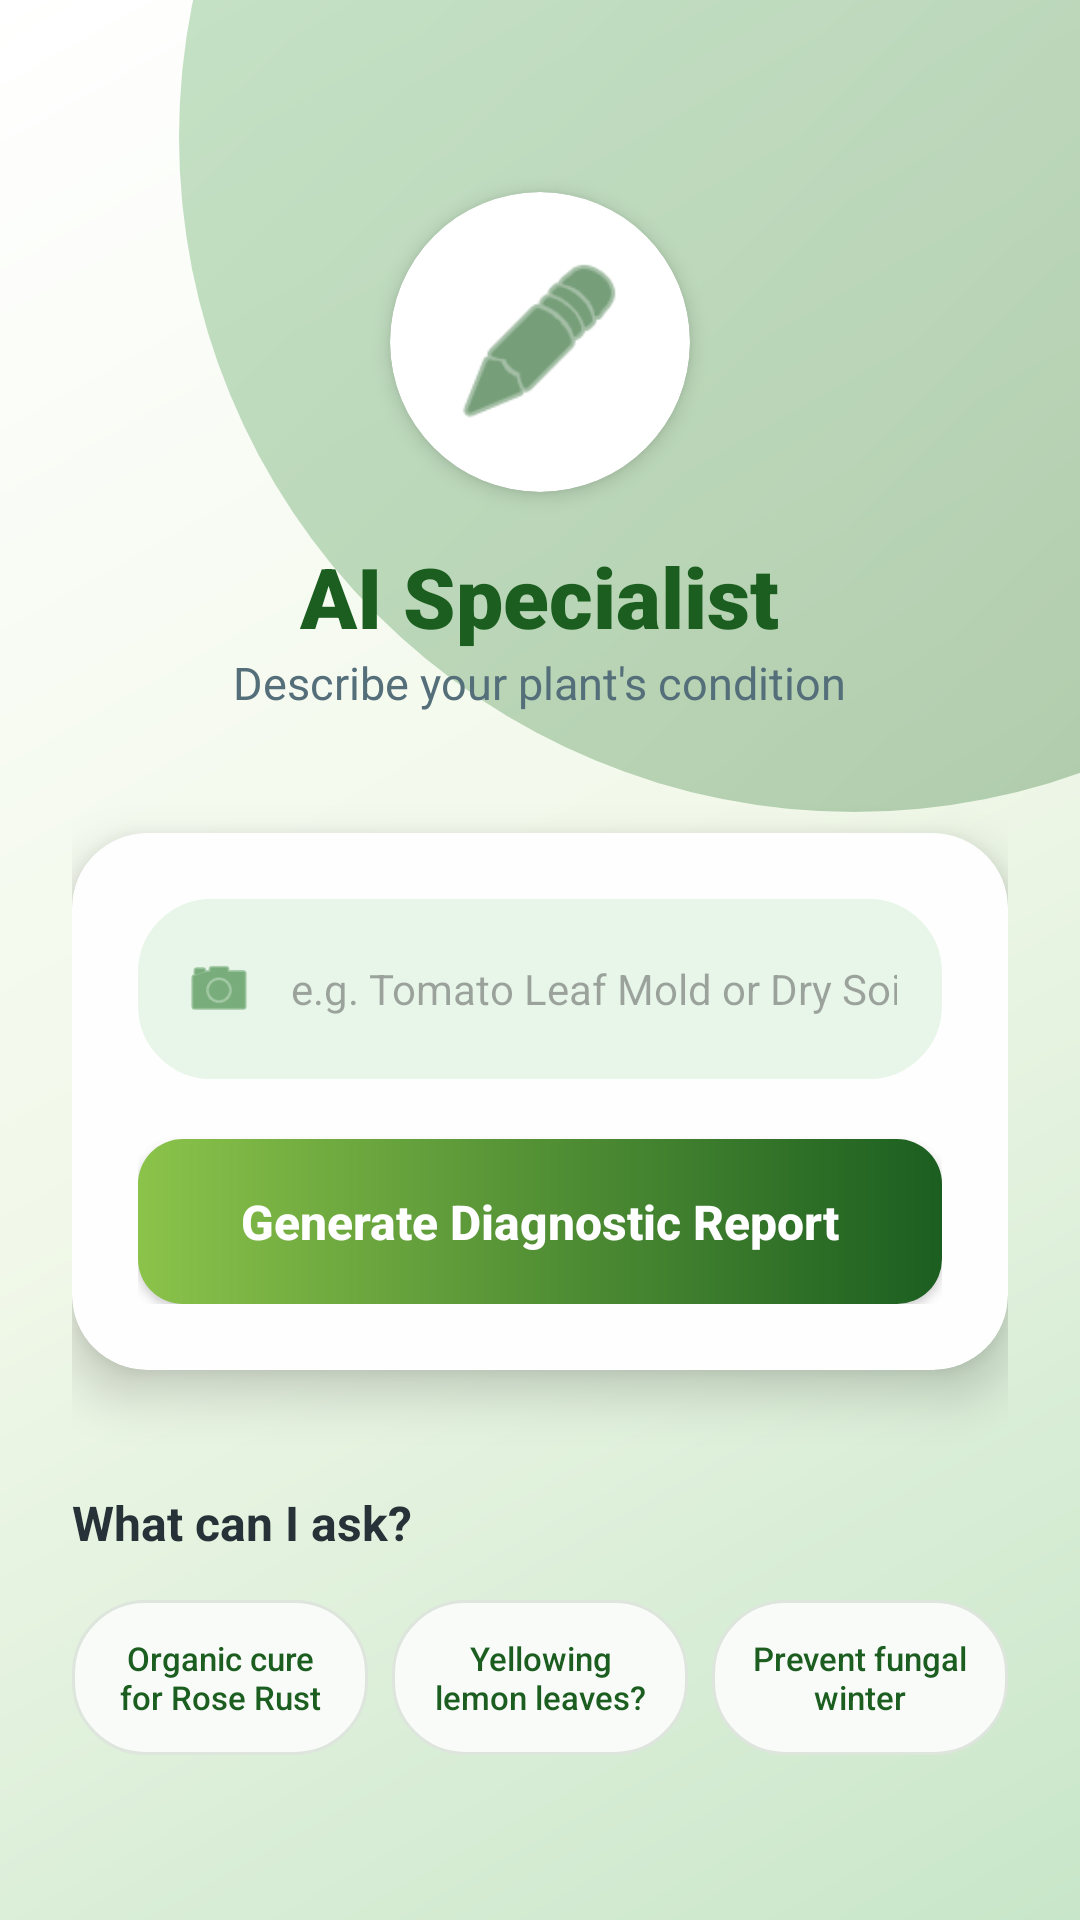

Icons on this 1080×1920 Android screen, each with the point to tap as (x=x, y=y):
camera: (x=219, y=988)
edit: (x=540, y=342)
